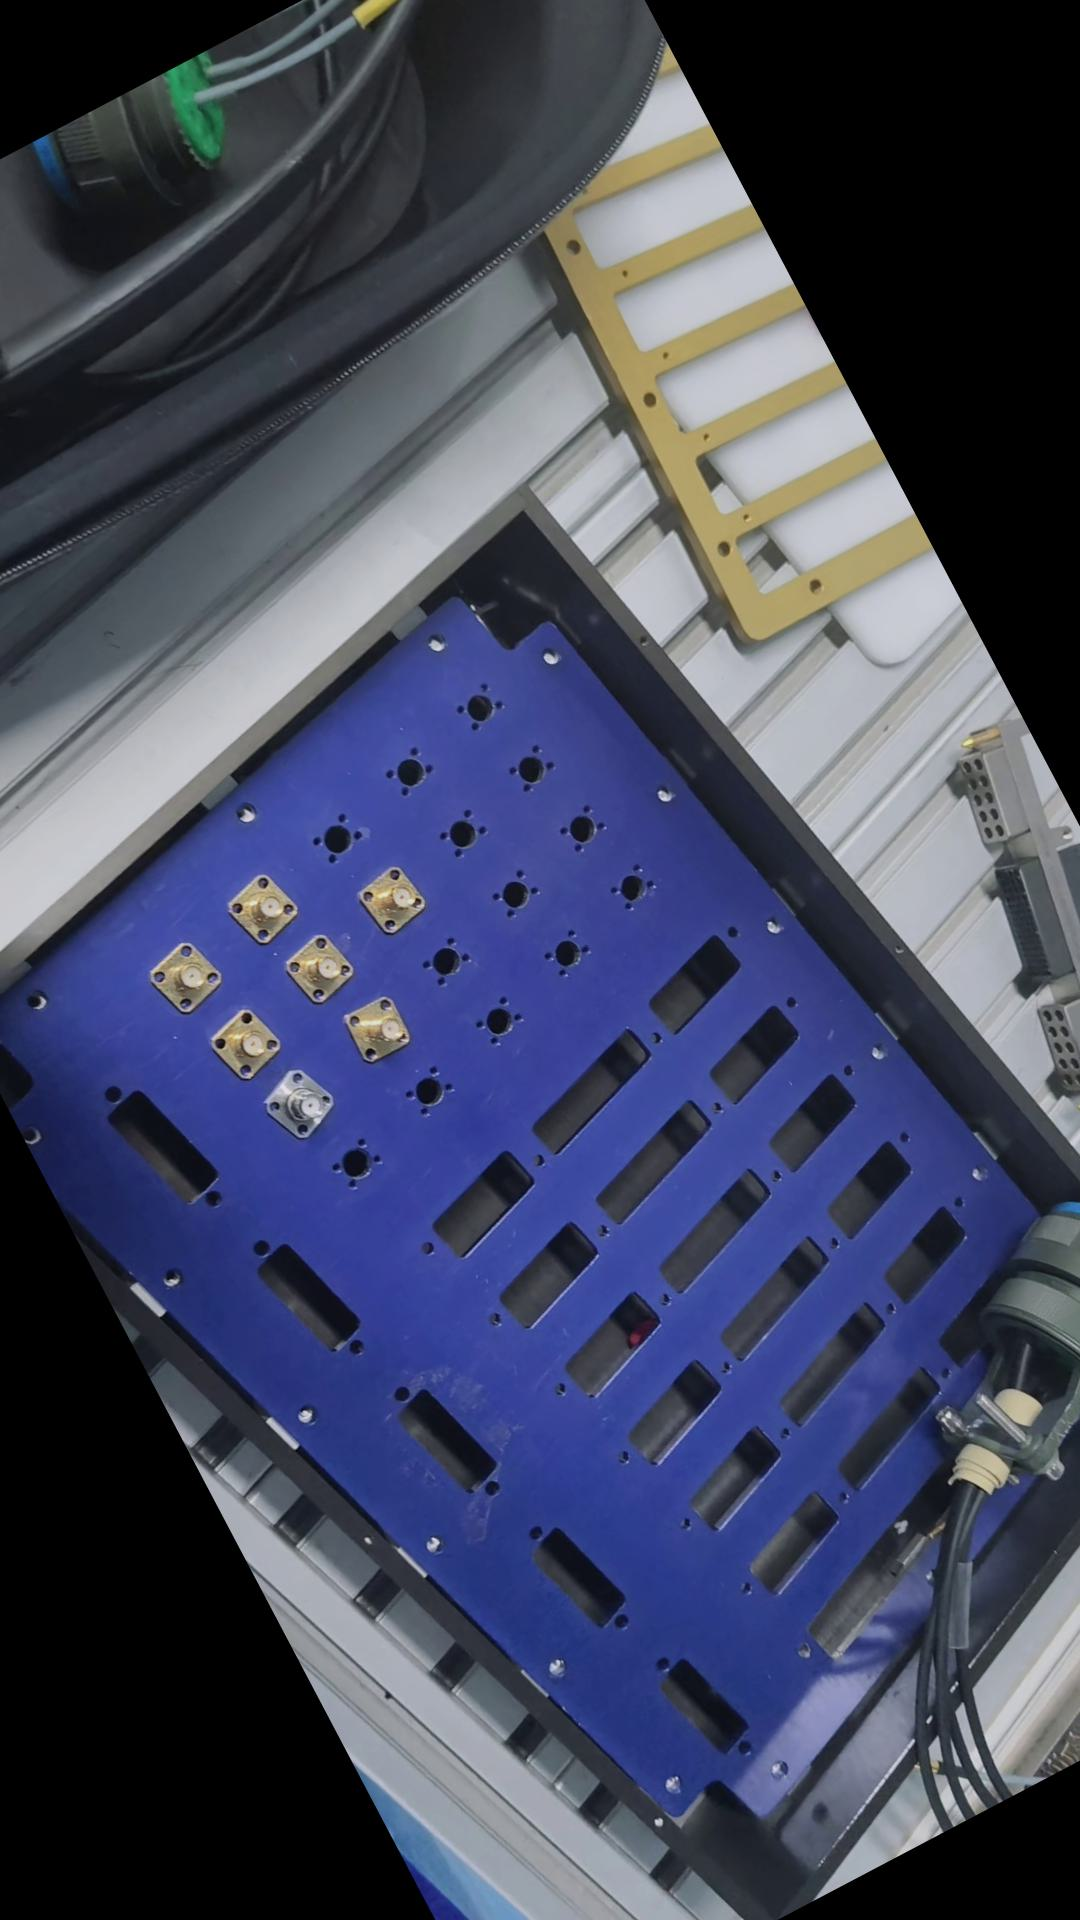SMA: (218, 862, 318, 953), (251, 1058, 347, 1150), (349, 853, 444, 943), (200, 993, 293, 1084), (274, 924, 368, 1011), (142, 930, 231, 1019), (339, 985, 425, 1068)
